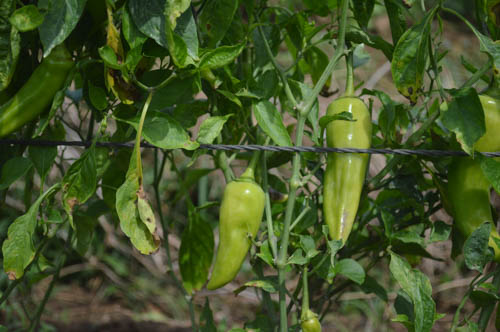ChiliPepper: (318, 98, 370, 252), (451, 95, 497, 261), (206, 181, 266, 294), (2, 58, 76, 142)
